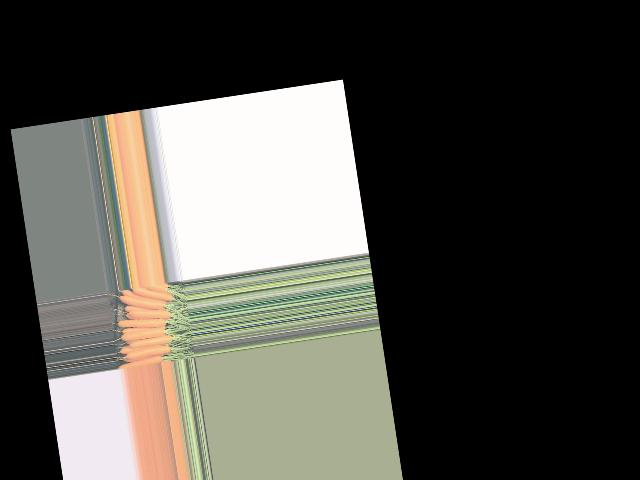carrot: (129, 288, 172, 303)
